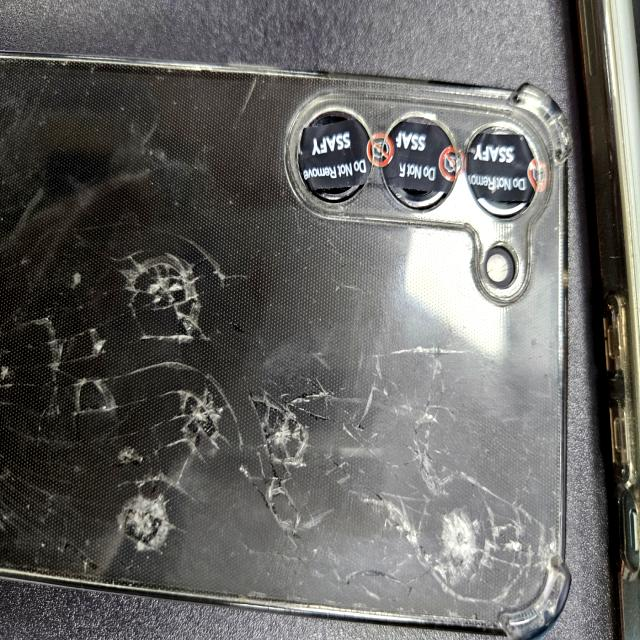sticker: (465, 125, 541, 216), (292, 112, 370, 189), (386, 121, 454, 199)
